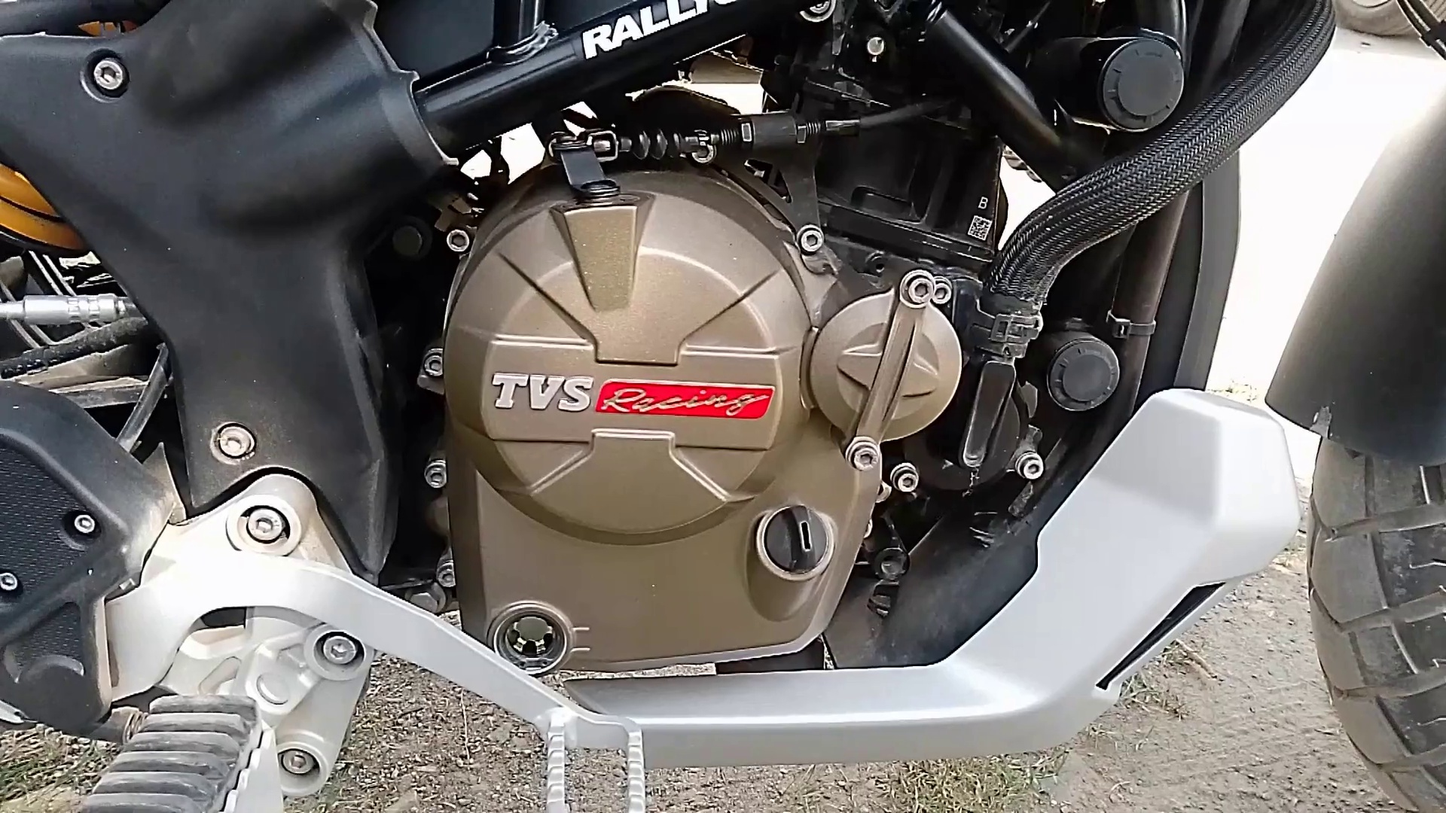engine: (339, 107, 1043, 706)
oil_cap: (747, 486, 842, 591)
oil_marker: (461, 583, 635, 689)
